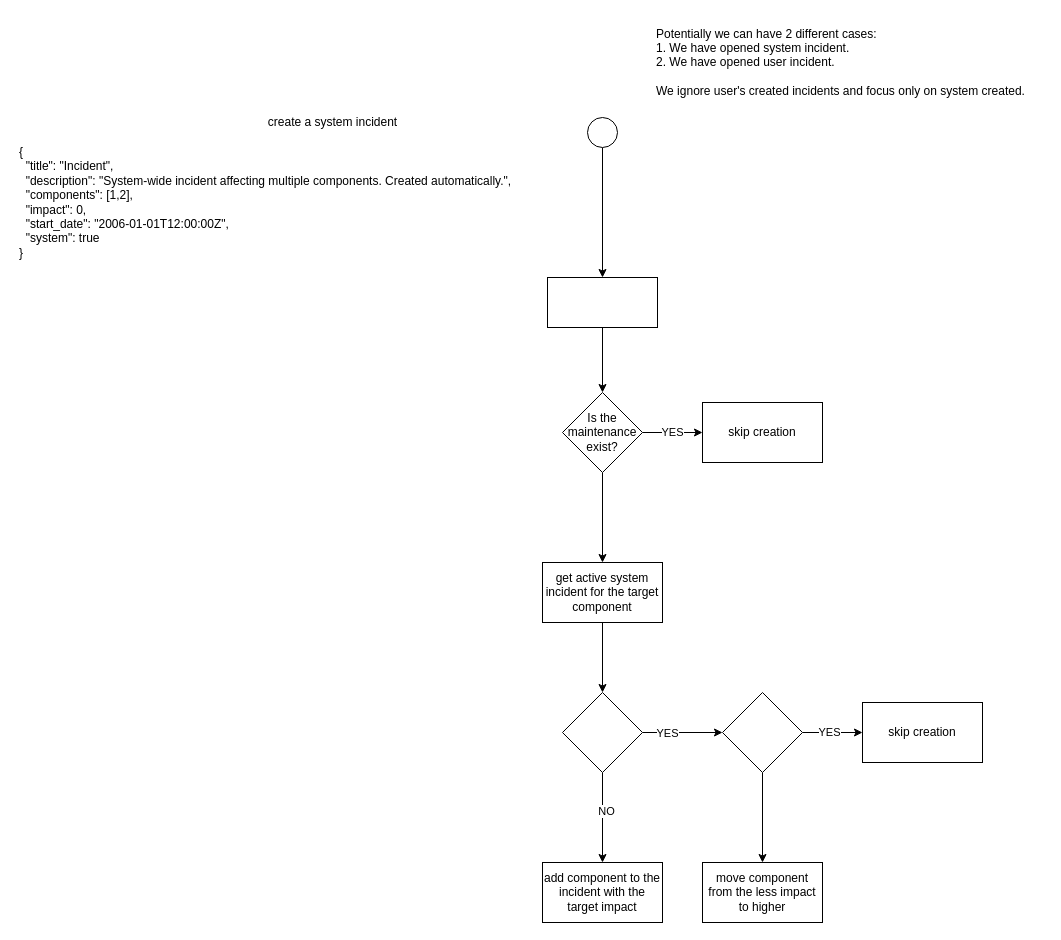
Image size: 1061x940. Some labels were removed from this diagram. The centre of each missing label's shape, as x and y in pixels:
get active maintenances for target component: the point at 602,302
is impact equal: the point at 762,732
is it exist?: the point at 602,732
